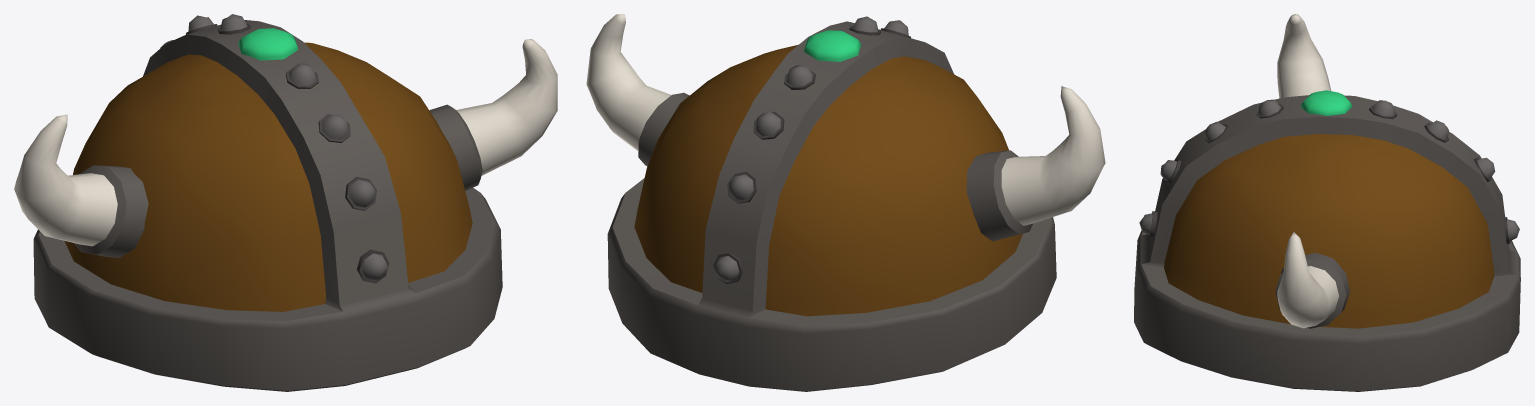
Rendered from Hat_19_02.fbx.
3 views of the same model, side by side, from view 1: azimuth 30°, elevation 25°; view 2: azimuth 150°, elevation 25°; view 3: azimuth 270°, elevation 25° (orthographic). The views are drawn at different scales.
Parts seen in each view (by area): view 1: Hat_19_02; view 2: Hat_19_02; view 3: Hat_19_02.
Part boxes in pixels (<box>): Hat_19_02: <box>14,14,557,391</box>; Hat_19_02: <box>586,14,1105,391</box>; Hat_19_02: <box>1134,14,1520,391</box>.
Size of the model in its own units: 55.57 by 27.61 by 41.99.
